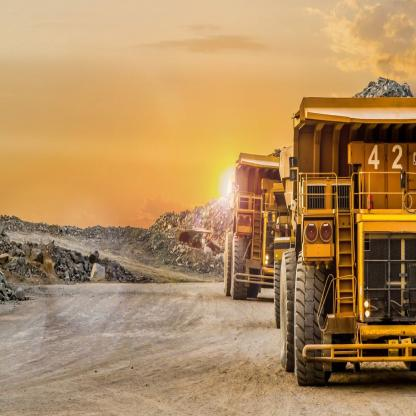dump_truck: (264, 73, 416, 383), (213, 142, 312, 332)
